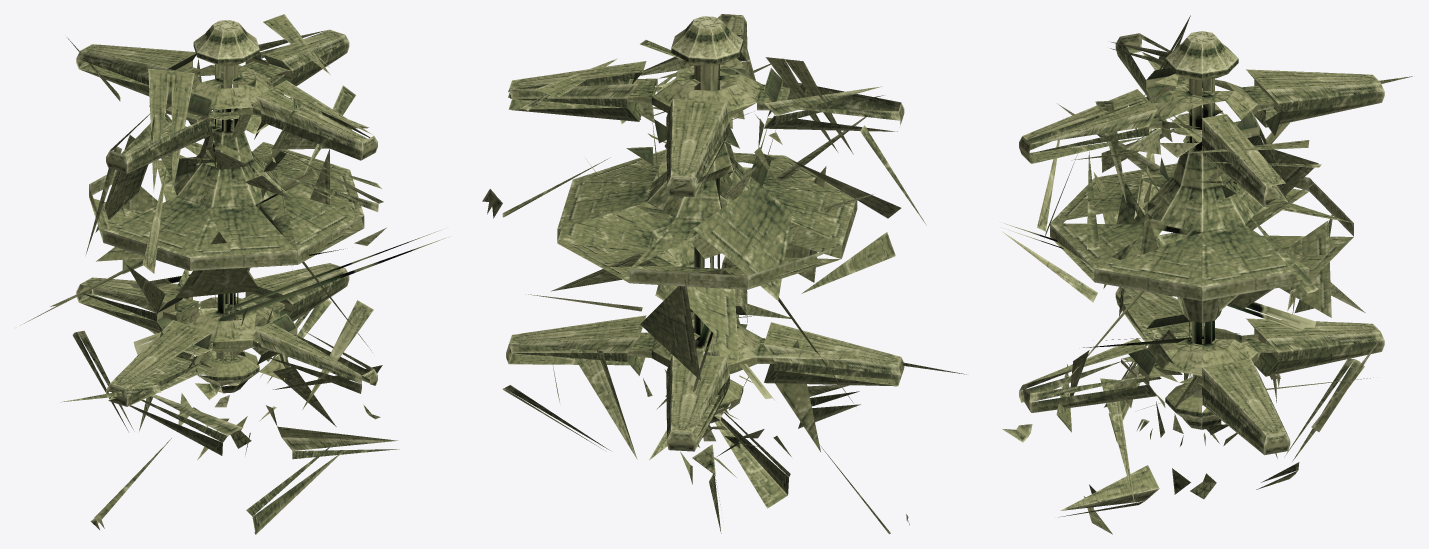
File: space_hexagon_destroyed.fbx
3 views of the same model, side by side, from view 1: azimuth 30°, elevation 25°; view 2: azimuth 150°, elevation 25°; view 3: azimuth 270°, elevation 25° (orthographic). The views are drawn at different scales.
Parts seen in each view (by area): view 1: Objekt035; view 2: Objekt035; view 3: Objekt035.
Boxes of the visible parts, <box> form: Objekt035: <box>20,14,448,534</box>; Objekt035: <box>482,14,966,534</box>; Objekt035: <box>1002,15,1412,534</box>.
Bounding box in the file's own units: 6025 × 5451 × 7286.
Materials: 1 (1 with a texture image).
